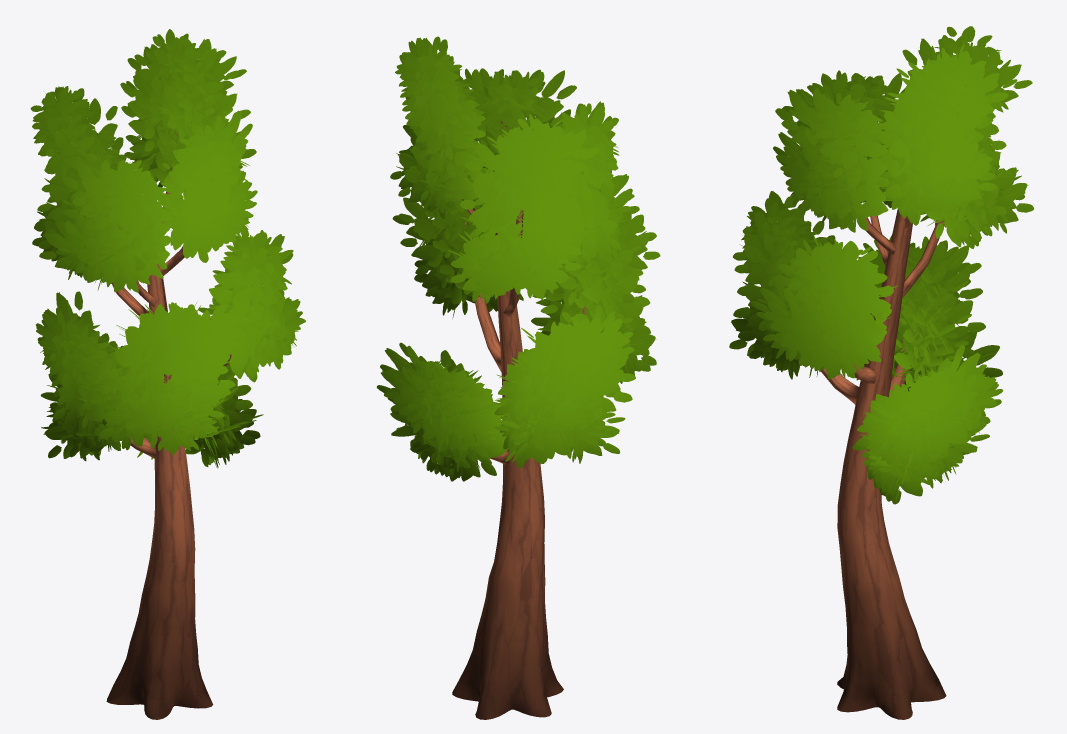
File: CommonTree_3.gltf
The picture shows the model from 3 angles, left to right: view 1: azimuth 30°, elevation 25°; view 2: azimuth 150°, elevation 25°; view 3: azimuth 270°, elevation 25°; orthographic projection. The views are drawn at different scales.
Parts seen in each view (by area): view 1: CommonTree_3; view 2: CommonTree_3; view 3: CommonTree_3.
Boxes of the visible parts, x1,y1,x2,y2 form: CommonTree_3: (30,29,305,719); CommonTree_3: (376,36,660,719); CommonTree_3: (729,26,1033,719).
Size of the model in its own units: 4.06 by 9.43 by 4.24.
Materials: 2 (2 with a texture image).
